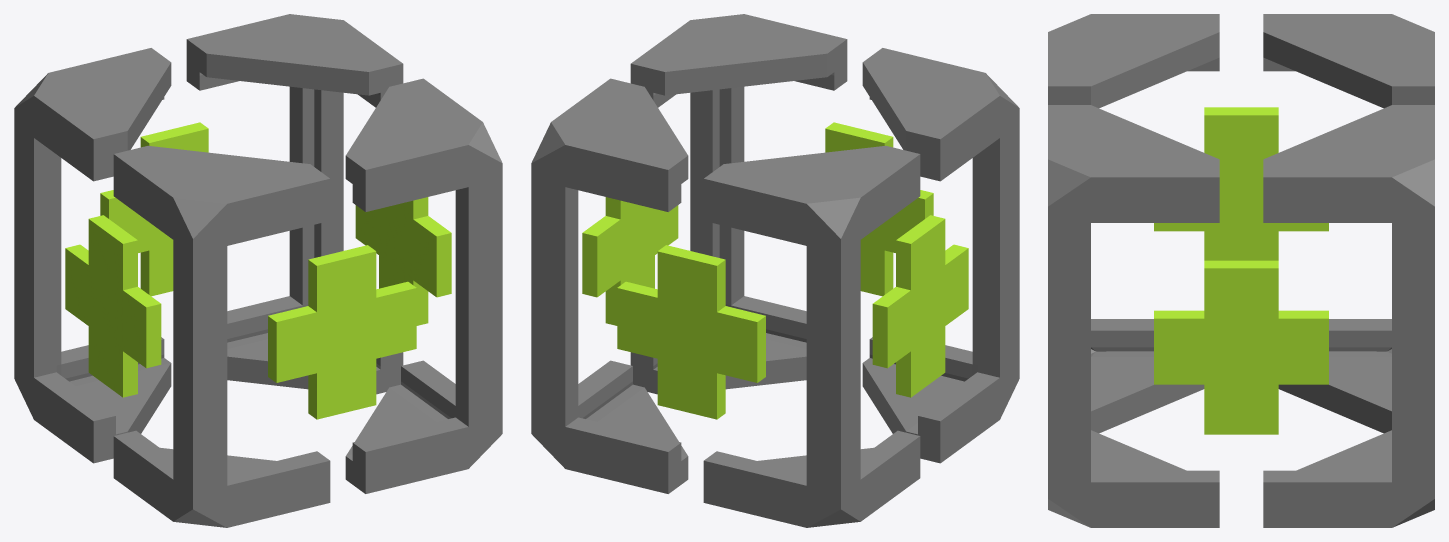
Rendered from quaternius-cyberpunk-game-kit-pickups-and-objects-pickup-health.gltf.
The picture shows the model from 3 angles, left to right: view 1: azimuth 30°, elevation 25°; view 2: azimuth 150°, elevation 25°; view 3: azimuth 270°, elevation 25°; orthographic projection. The views are drawn at different scales.
Visible parts, largest first — view 1: Pickup_Health; view 2: Pickup_Health; view 3: Pickup_Health.
Boxes of the visible parts, x1,y1,x2,y2 form: Pickup_Health: (14, 14, 502, 527); Pickup_Health: (531, 14, 1019, 527); Pickup_Health: (1048, 14, 1434, 527).
Size of the model in its own units: 0.2413 by 0.2413 by 0.2413.
